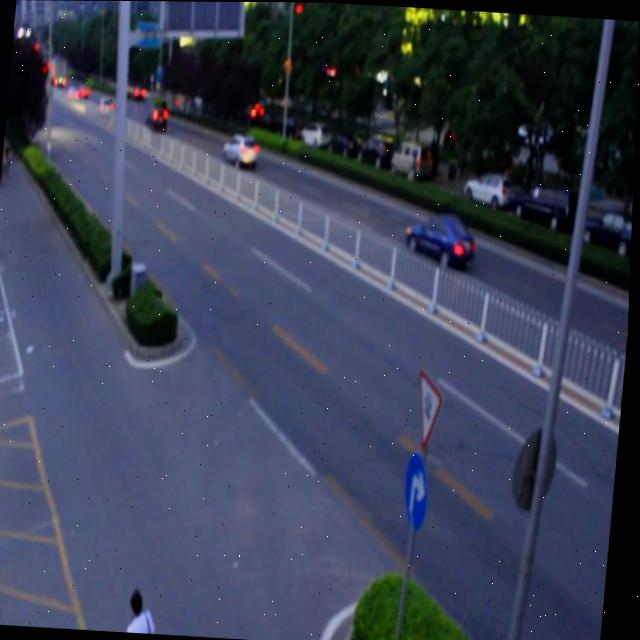car: (403, 209, 479, 266)
